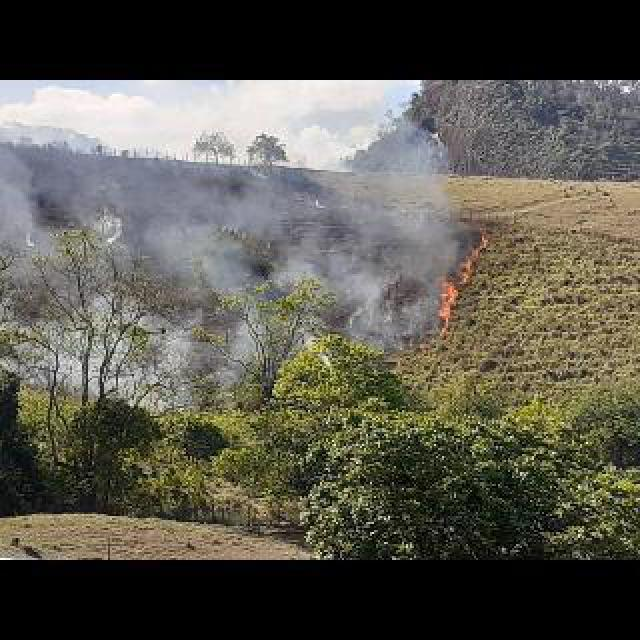fire: (460, 238, 490, 280), (436, 284, 456, 334)
smoke: (2, 130, 449, 372)
